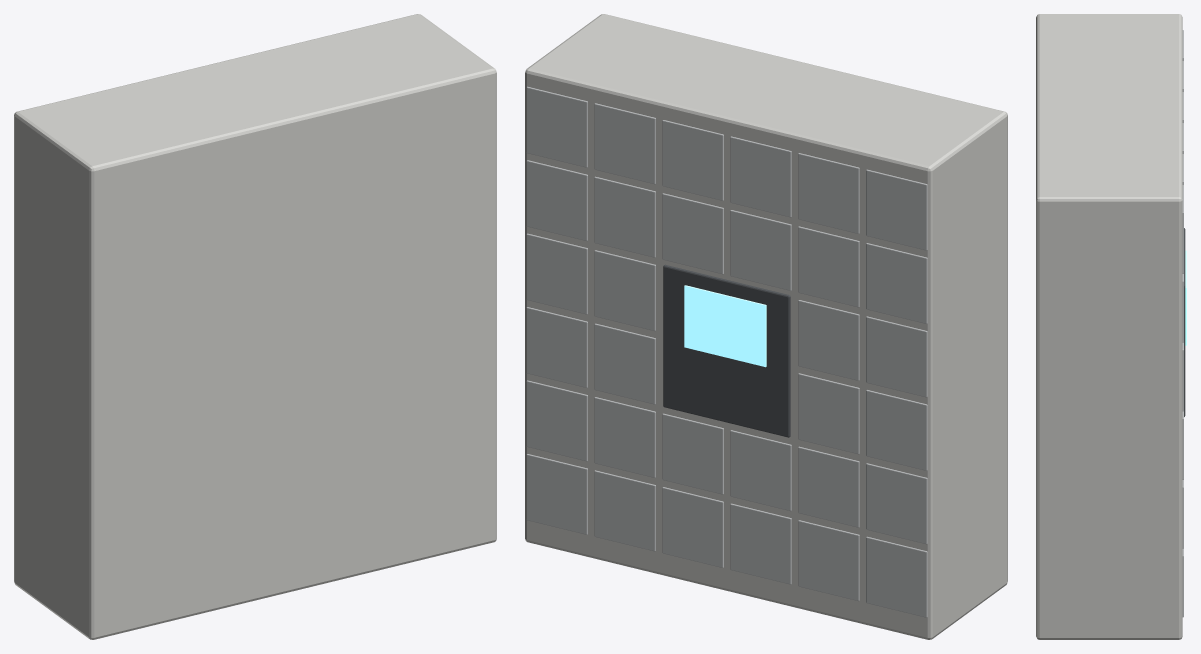
Rendered from parcel_locker.glb.
3 renders of one model, left to right at view 1: azimuth 30°, elevation 25°; view 2: azimuth 150°, elevation 25°; view 3: azimuth 270°, elevation 25°, orthographic. The views are drawn at different scales.
Visible parts, largest first — view 1: parcel_locker; view 2: parcel_locker; view 3: parcel_locker.
Part boxes in pixels (x1,y1,x2,y2): parcel_locker: [14, 14, 496, 639]; parcel_locker: [525, 14, 1007, 639]; parcel_locker: [1036, 14, 1186, 639].
Size of the model in its own units: 1.8 by 2 by 0.617.
